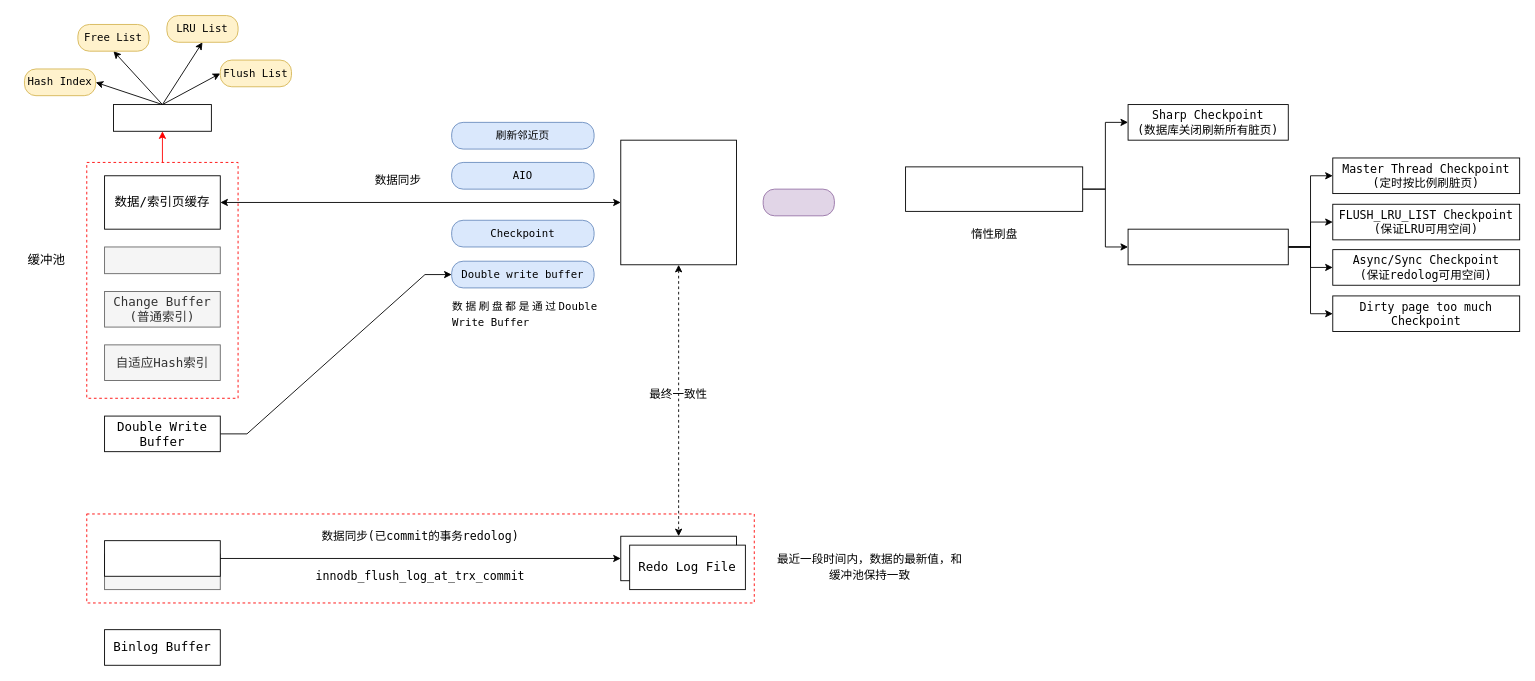
The diagram is 1535 pixels wide and 681 high, and some of its shapes have lost their labels. The shapes that lost their labels are listed below. From the top down, each one's centre as x and y in pixels, then its label:
At point 162,117: "缓存分页管理".
At point 678,202: "磁盘数据/索引页".
At point 798,202: "B+ Tree".
At point 994,188: "Checkpoint (异步更新缓冲池数据到磁盘)".
At point 162,260: "数据字典".
At point 1207,246: "Fuzzy Checkpoint".
At point 162,558: "Redolog Buffer".
